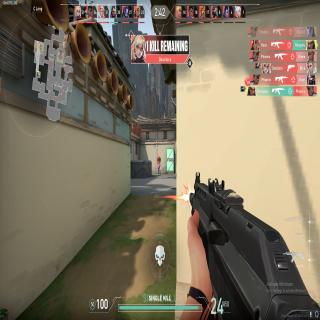ENEMY-BODY: (157, 161, 161, 175)
